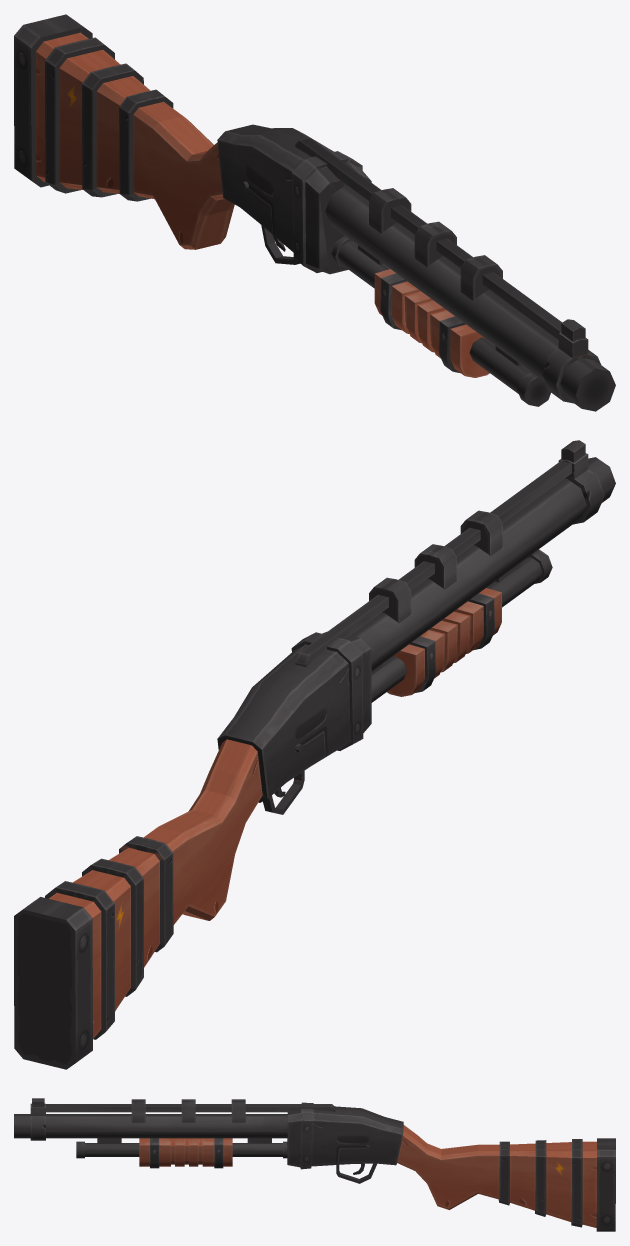
File: Weapon_2.fbx
3 renders of one model, top to bottom at view 1: azimuth 30°, elevation 25°; view 2: azimuth 150°, elevation 25°; view 3: azimuth 270°, elevation 25°, orthographic. The views are drawn at different scales.
Parts seen in each view (by area): view 1: Weapon_2, Weapon_2 Slide; view 2: Weapon_2, Weapon_2 Slide; view 3: Weapon_2, Weapon_2 Slide.
Part boxes in pixels (<box>): Weapon_2: <box>14,14,615,411</box>; Weapon_2 Slide: <box>374,269,489,377</box>; Weapon_2: <box>14,440,615,1069</box>; Weapon_2 Slide: <box>387,588,501,696</box>; Weapon_2: <box>14,1098,615,1231</box>; Weapon_2 Slide: <box>139,1138,232,1168</box>.
Size of the model in its own units: 0.0525 by 0.1904 by 0.8163.
